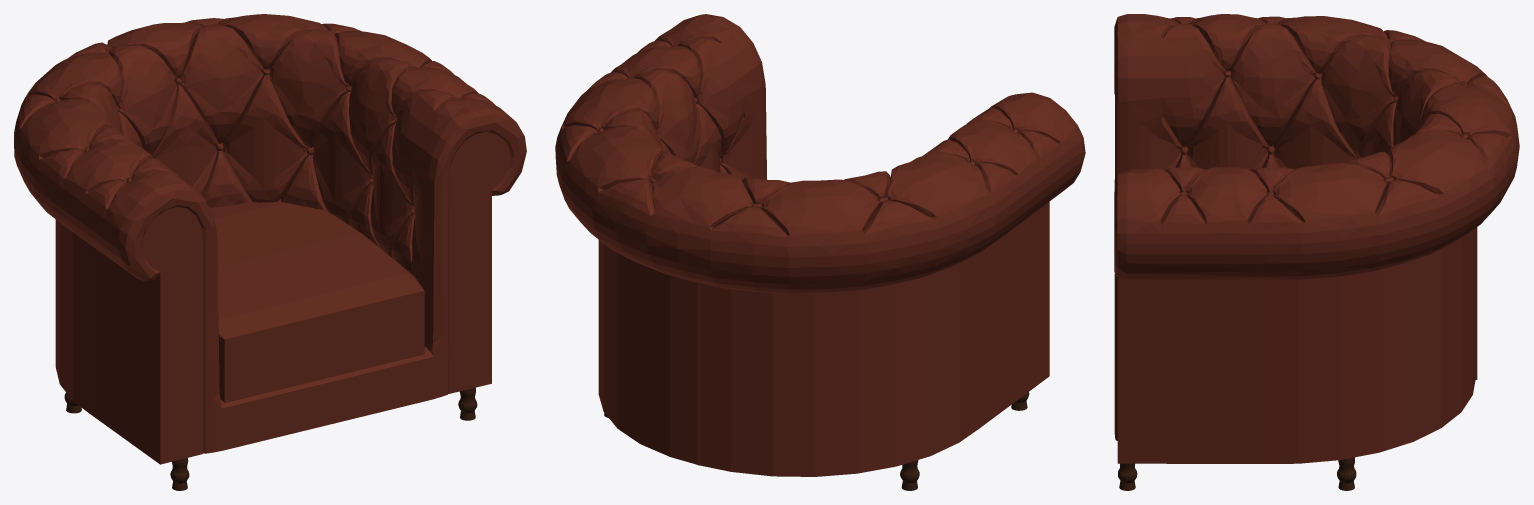
Rendered from winchesterArmchair.obj.
The picture shows the model from 3 angles, left to right: view 1: azimuth 30°, elevation 25°; view 2: azimuth 150°, elevation 25°; view 3: azimuth 270°, elevation 25°; orthographic projection. The views are drawn at different scales.
Visible parts, largest first — view 1: Circle, Circle.002_Circle.003, Cube_Cube.001; view 2: Circle, Circle.002_Circle.003; view 3: Circle, Circle.002_Circle.003, Circle.004_Circle.005, Circle.003_Circle.004.
Part boxes in pixels (x1,y1,x2,y2): Circle: (14, 14, 526, 453); Circle.002_Circle.003: (55, 132, 510, 464); Cube_Cube.001: (210, 194, 424, 402); Circle: (555, 14, 1085, 294); Circle.002_Circle.003: (598, 201, 1049, 476); Circle: (1114, 14, 1519, 440); Circle.002_Circle.003: (1117, 105, 1477, 463); Circle.004_Circle.005: (1337, 457, 1356, 490); Circle.003_Circle.004: (1118, 463, 1137, 490).
Bounding box in the file's own units: 112 × 80.43 × 93.42.
